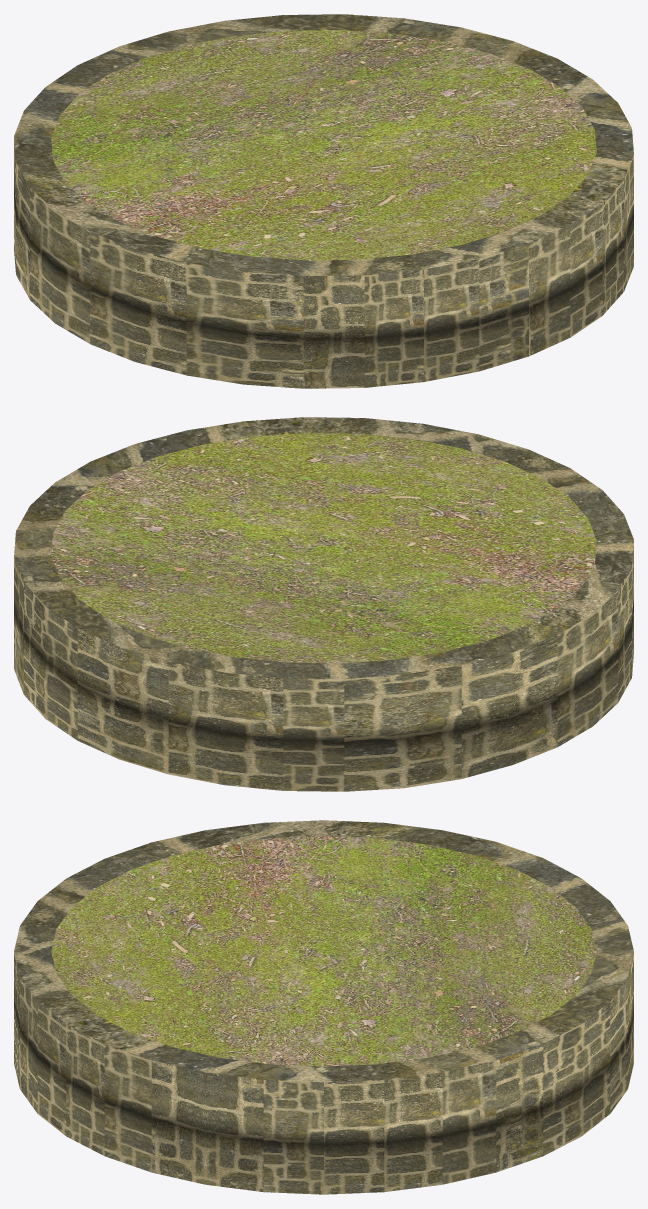
The picture shows the model from 3 angles, top to bottom: view 1: azimuth 30°, elevation 25°; view 2: azimuth 150°, elevation 25°; view 3: azimuth 270°, elevation 25°; orthographic projection.
Parts seen in each view (by area): view 1: 円柱; view 2: 円柱; view 3: 円柱.
Part boxes in pixels (bbox=[...]): 円柱: bbox=[14, 14, 633, 388]; 円柱: bbox=[14, 417, 633, 791]; 円柱: bbox=[14, 820, 633, 1194].
Bounding box in the file's own units: 2 × 0.4042 × 2.
Materials: 1 (1 with a texture image).
